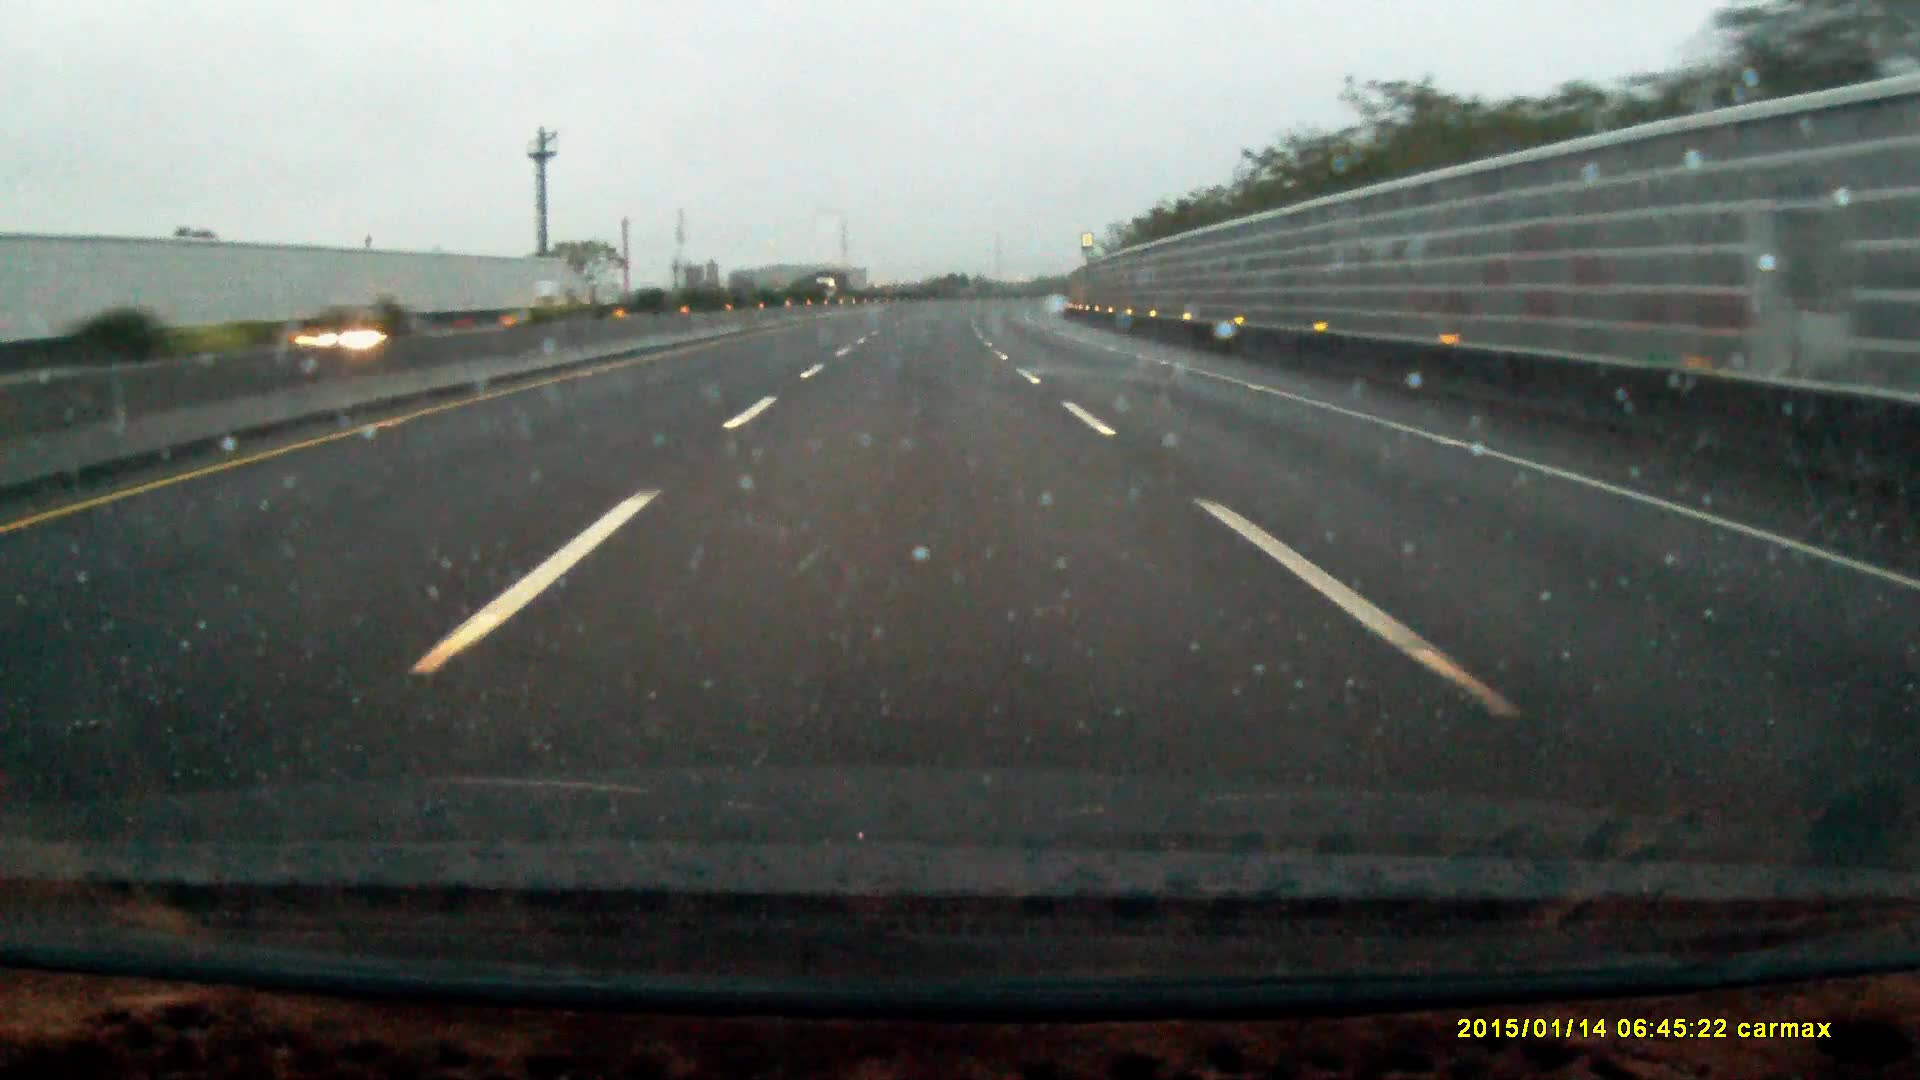vehicle: (286, 301, 425, 376), (814, 268, 849, 303)
